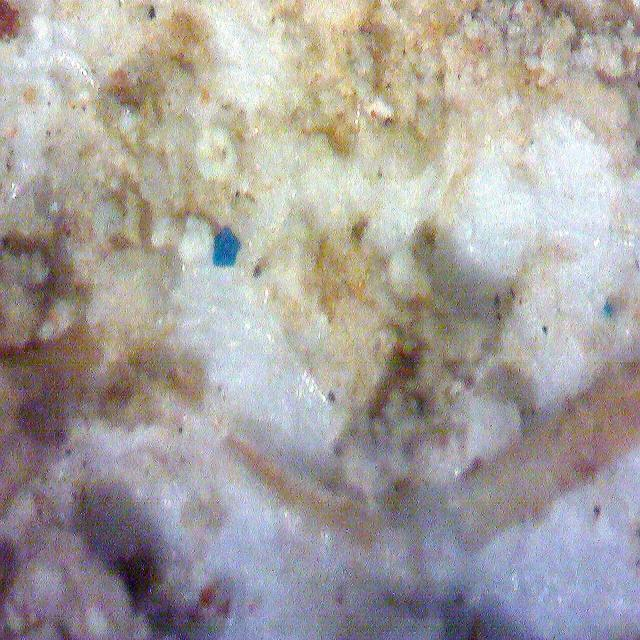microplastic: (206, 222, 246, 270)
